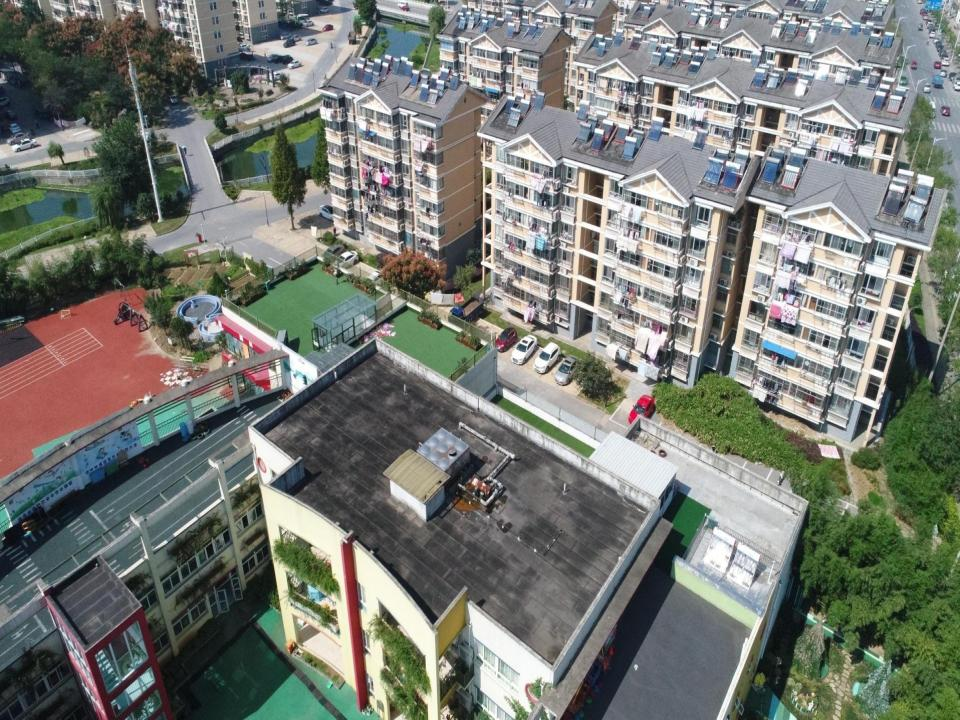bus: (354, 13, 371, 26), (294, 13, 310, 25)
car: (533, 341, 561, 374), (628, 394, 655, 426), (510, 334, 537, 365), (554, 354, 579, 385), (494, 326, 518, 352), (320, 243, 345, 265), (332, 250, 359, 269), (366, 269, 388, 287), (12, 137, 38, 152), (318, 204, 338, 222), (6, 132, 31, 146), (8, 120, 22, 134), (0, 95, 13, 110), (268, 70, 284, 82), (4, 108, 18, 121), (166, 91, 178, 105), (282, 37, 296, 48), (287, 59, 302, 69), (140, 114, 150, 128), (282, 54, 294, 65), (940, 104, 951, 116), (894, 56, 905, 68), (304, 37, 318, 46), (238, 43, 250, 51), (302, 19, 314, 27), (900, 73, 908, 85), (280, 31, 290, 40), (949, 71, 958, 81), (941, 56, 950, 66), (290, 34, 301, 42), (322, 24, 333, 32), (320, 5, 329, 14), (274, 55, 284, 63), (953, 79, 959, 91), (939, 68, 947, 77), (934, 60, 942, 69), (267, 54, 275, 62), (940, 53, 948, 61), (938, 48, 946, 56), (936, 44, 944, 52), (439, 2, 449, 8), (952, 75, 959, 83), (934, 40, 942, 47), (933, 36, 940, 44), (929, 30, 936, 38), (922, 13, 929, 20), (400, 5, 408, 11), (920, 7, 926, 15), (916, 0, 923, 3)
truck: (448, 296, 484, 324), (932, 73, 944, 89)
van: (927, 101, 936, 119), (922, 80, 931, 93), (398, 0, 408, 8), (918, 22, 923, 31)
